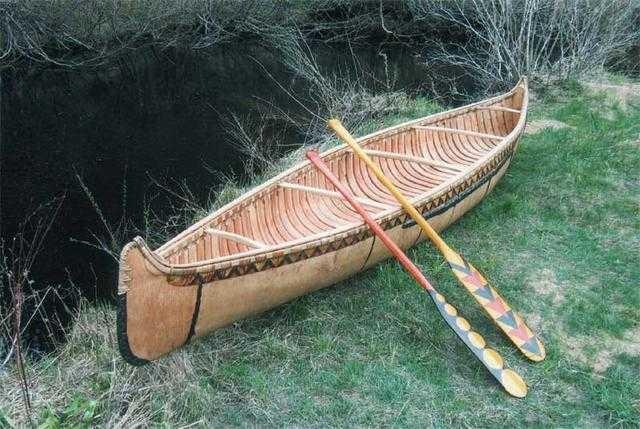kayak: (118, 76, 535, 374)
